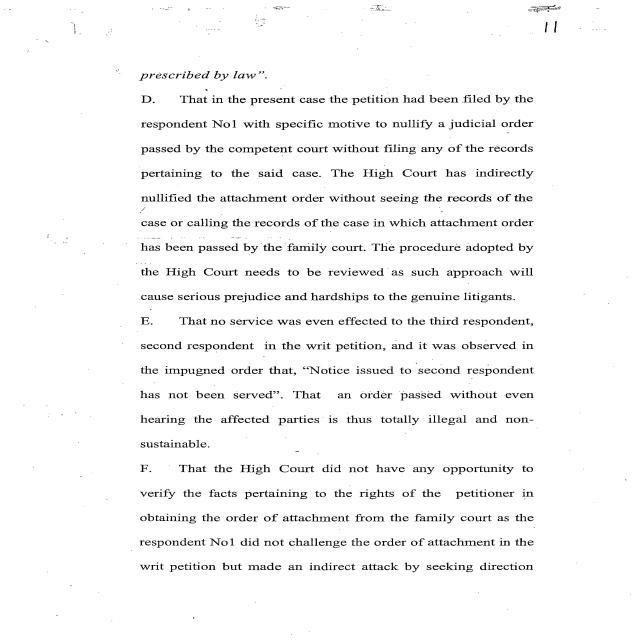page-number: (401, 0, 640, 90)
